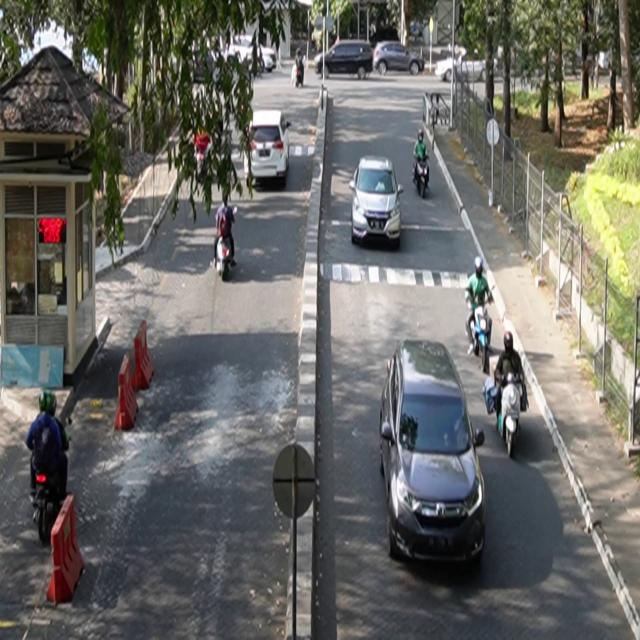car: (380, 339, 487, 567), (350, 156, 405, 249), (245, 110, 292, 187), (374, 41, 426, 77)
